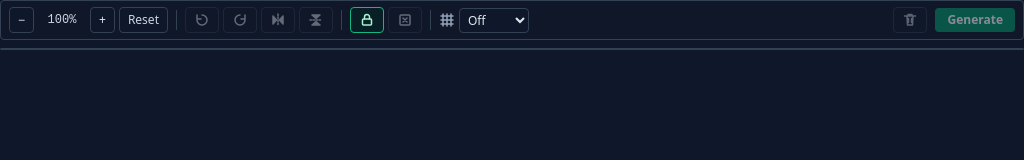
Test: SheetPreview with a profile seeded › zoom in / out buttons update the displayed percentage
Click the button titled "Zoom in" at (102,20), box [90,7,115,33]
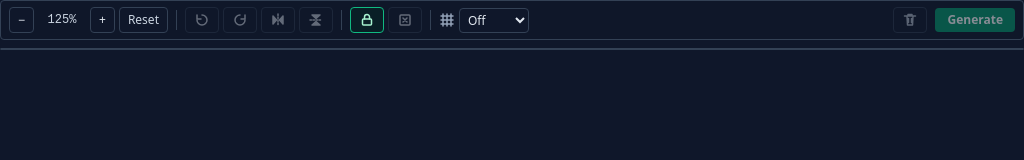
Expected: the text "125%" is shown, [48,13,76,27]
